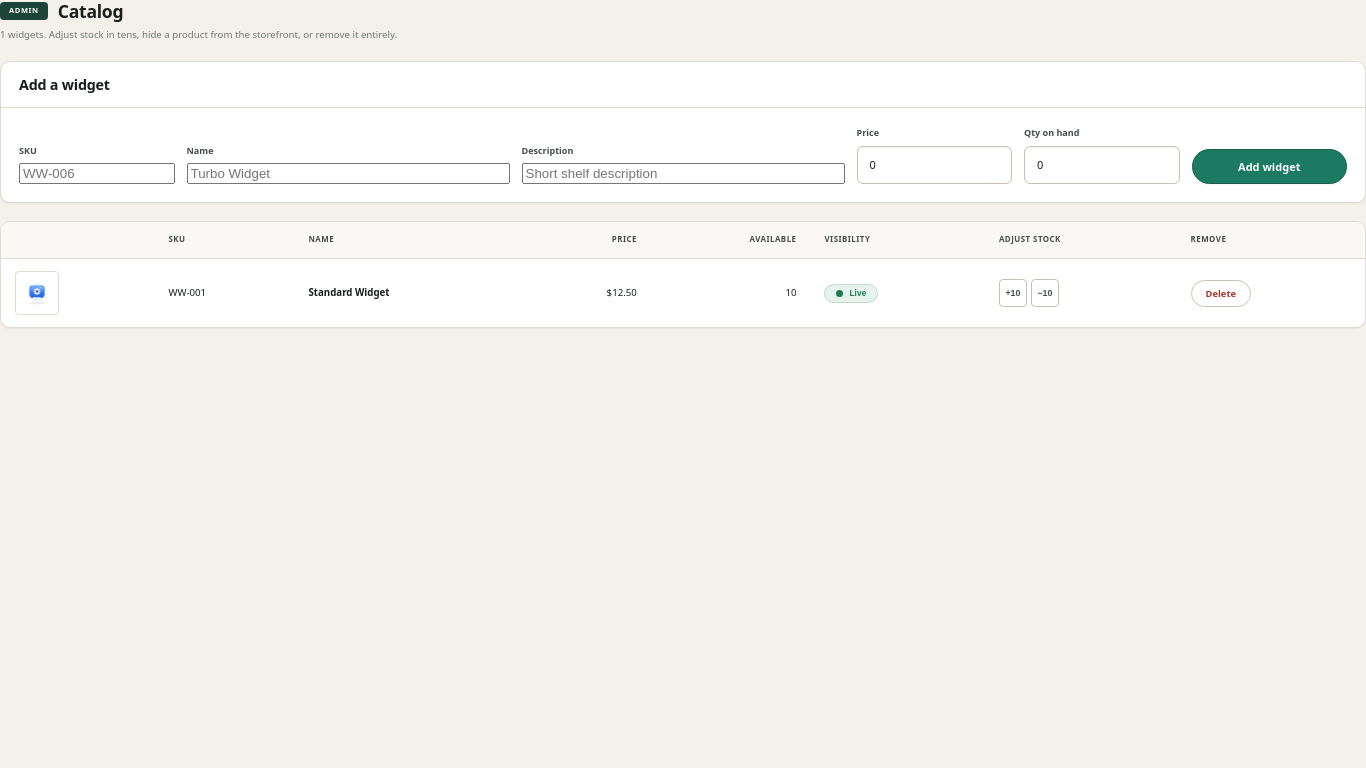
Test: AdminWidgetsPage › asks before deleting, and sends nothing until confirmed
The image size is (1366, 768).
Click the button with aria-label "Delete Standard Widget" at coordinates (1221, 293), box 1191,280 -> 1251,307
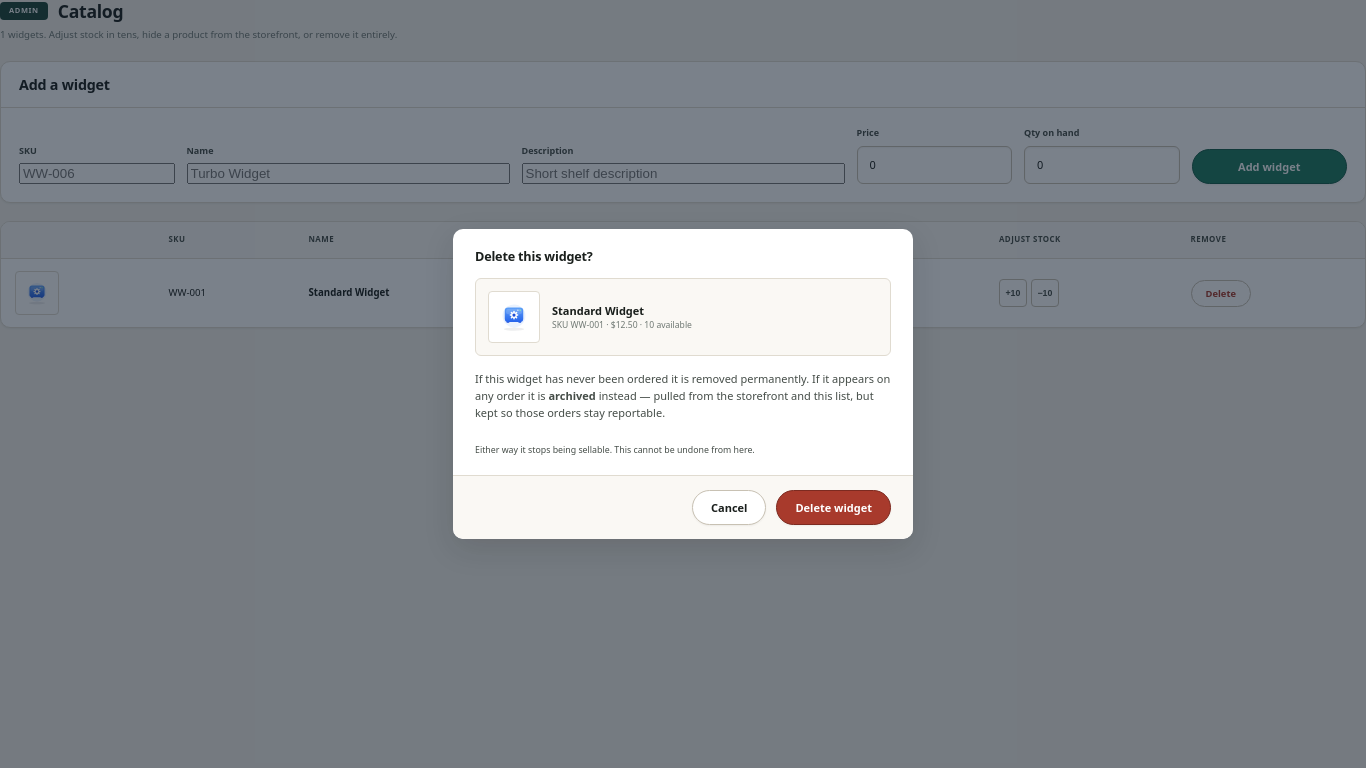
Check: the heading "Delete this widget?" is shown, box 475,247 -> 593,265
Check: the text "archived" is shown, box 548,388 -> 596,403
